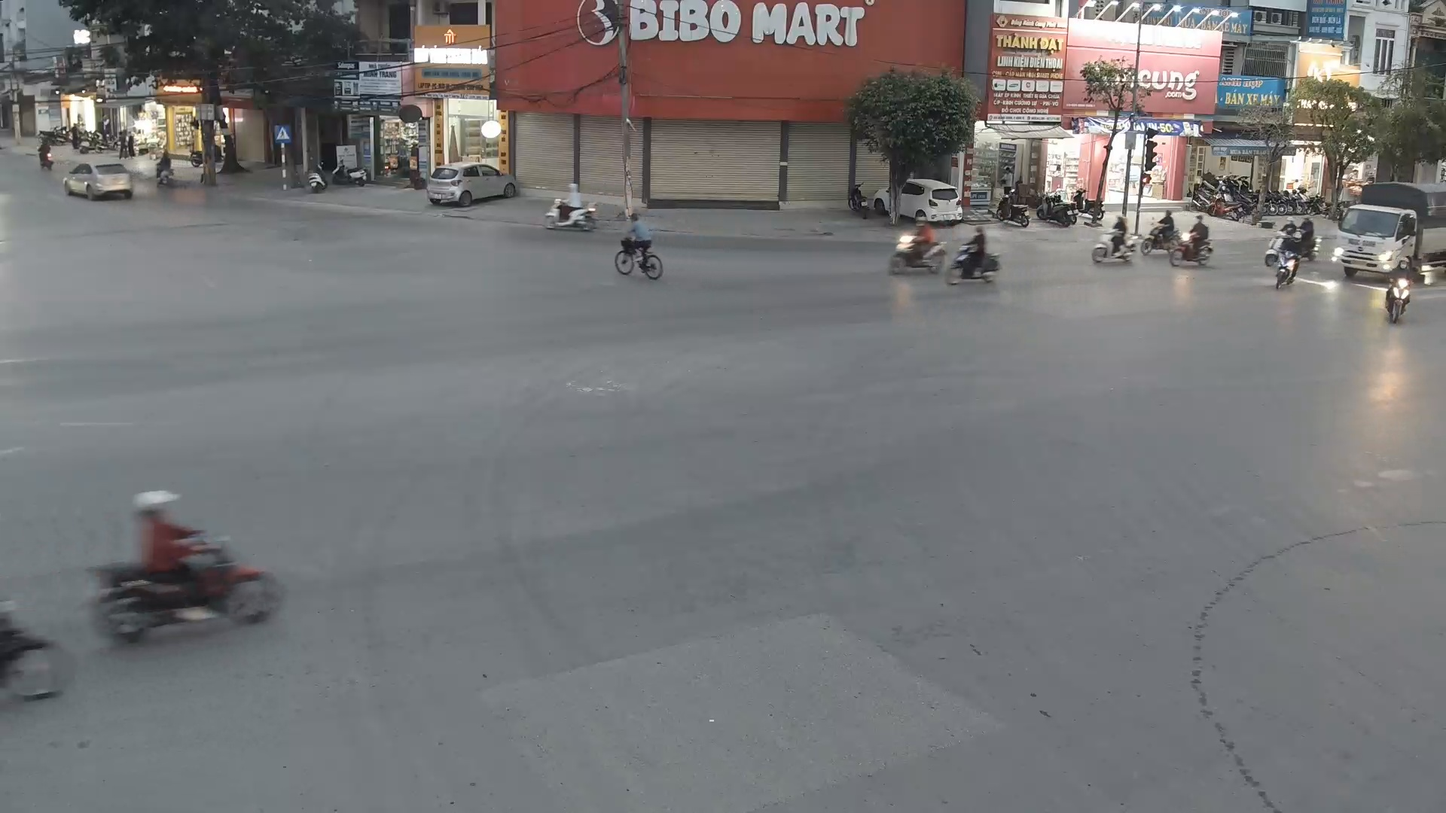car: (1335, 203, 1420, 280), (425, 161, 520, 211), (64, 158, 135, 201)
motorbike: (93, 484, 283, 644), (613, 208, 666, 281), (942, 227, 1002, 287), (886, 221, 947, 276), (540, 179, 600, 233), (1090, 216, 1138, 267), (1168, 217, 1213, 268), (1272, 226, 1302, 291), (1383, 264, 1414, 325)
